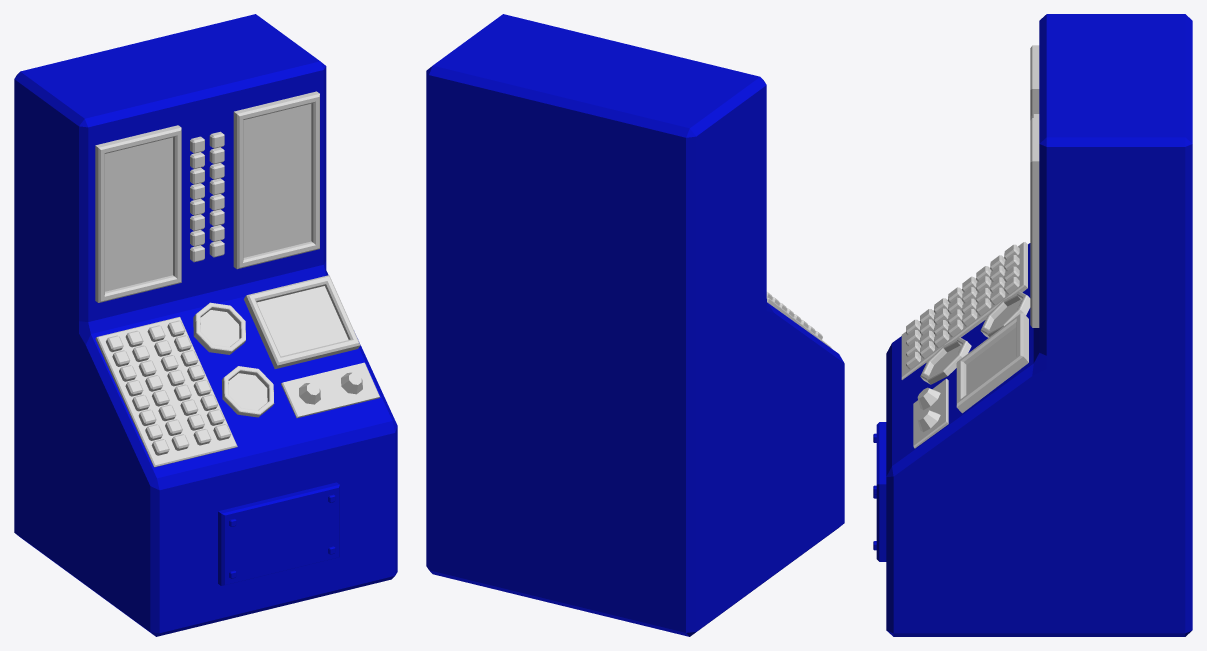
The model's file is Small_Terminal.fbx.
The picture shows the model from 3 angles, left to right: view 1: azimuth 30°, elevation 25°; view 2: azimuth 150°, elevation 25°; view 3: azimuth 270°, elevation 25°; orthographic projection. The views are drawn at different scales.
Visible parts, largest first — view 1: Small_Terminal_poly; view 2: Small_Terminal_poly; view 3: Small_Terminal_poly.
Part boxes in pixels (x1,y1,x2,y2): Small_Terminal_poly: (14,14,397,636); Small_Terminal_poly: (426,14,844,636); Small_Terminal_poly: (873,14,1192,636).
Size of the model in its own units: 100 by 180 by 104.
